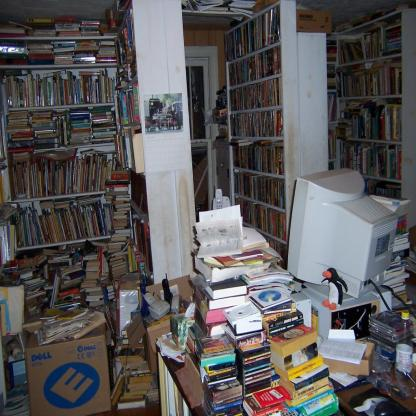book: (165, 202, 344, 416), (0, 244, 124, 314), (365, 196, 415, 310), (9, 152, 125, 195), (2, 107, 117, 150), (108, 317, 157, 414), (13, 196, 110, 244), (3, 71, 120, 105), (101, 170, 134, 279), (223, 2, 282, 62), (0, 39, 119, 66), (0, 13, 121, 36), (338, 57, 406, 95), (340, 97, 400, 140), (330, 6, 416, 34), (34, 308, 92, 348), (340, 143, 404, 178), (234, 199, 286, 239), (226, 47, 282, 84), (180, 0, 259, 24), (227, 140, 284, 172), (227, 79, 283, 109), (233, 171, 284, 202), (114, 126, 148, 171), (0, 376, 37, 416), (117, 1, 140, 60), (231, 108, 283, 134), (3, 338, 28, 392), (114, 82, 144, 126), (132, 219, 154, 277), (360, 24, 384, 59), (262, 241, 289, 271), (379, 18, 402, 53), (324, 38, 338, 94), (115, 53, 140, 83), (134, 249, 152, 290), (337, 36, 364, 62), (0, 218, 14, 262), (364, 182, 400, 198), (0, 159, 11, 204), (325, 94, 340, 122), (327, 123, 338, 159), (328, 160, 336, 170)
